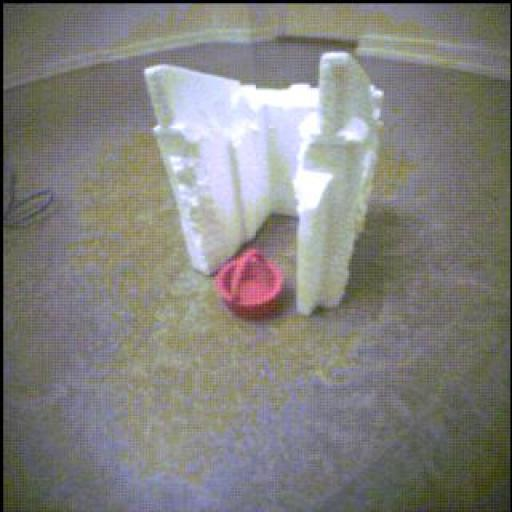Bucket: (216, 251, 285, 320)
